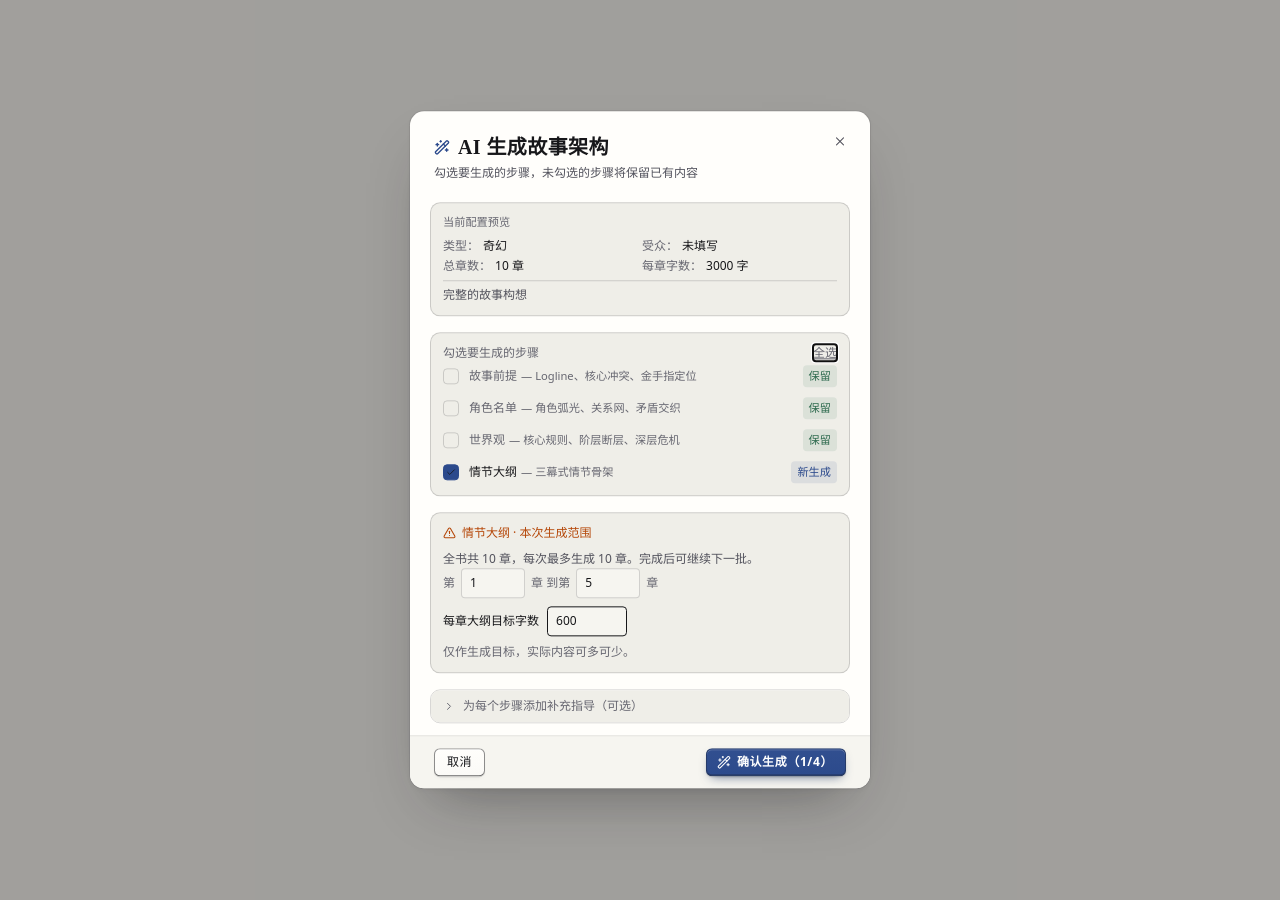
Scenario: workflow launch dialogs › rejects invalid synopsis range value  without falling back to the whole book
Step 1. Clear the number field named "本次生成范围的起始章" → (493, 584), box 461,569 -> 525,599
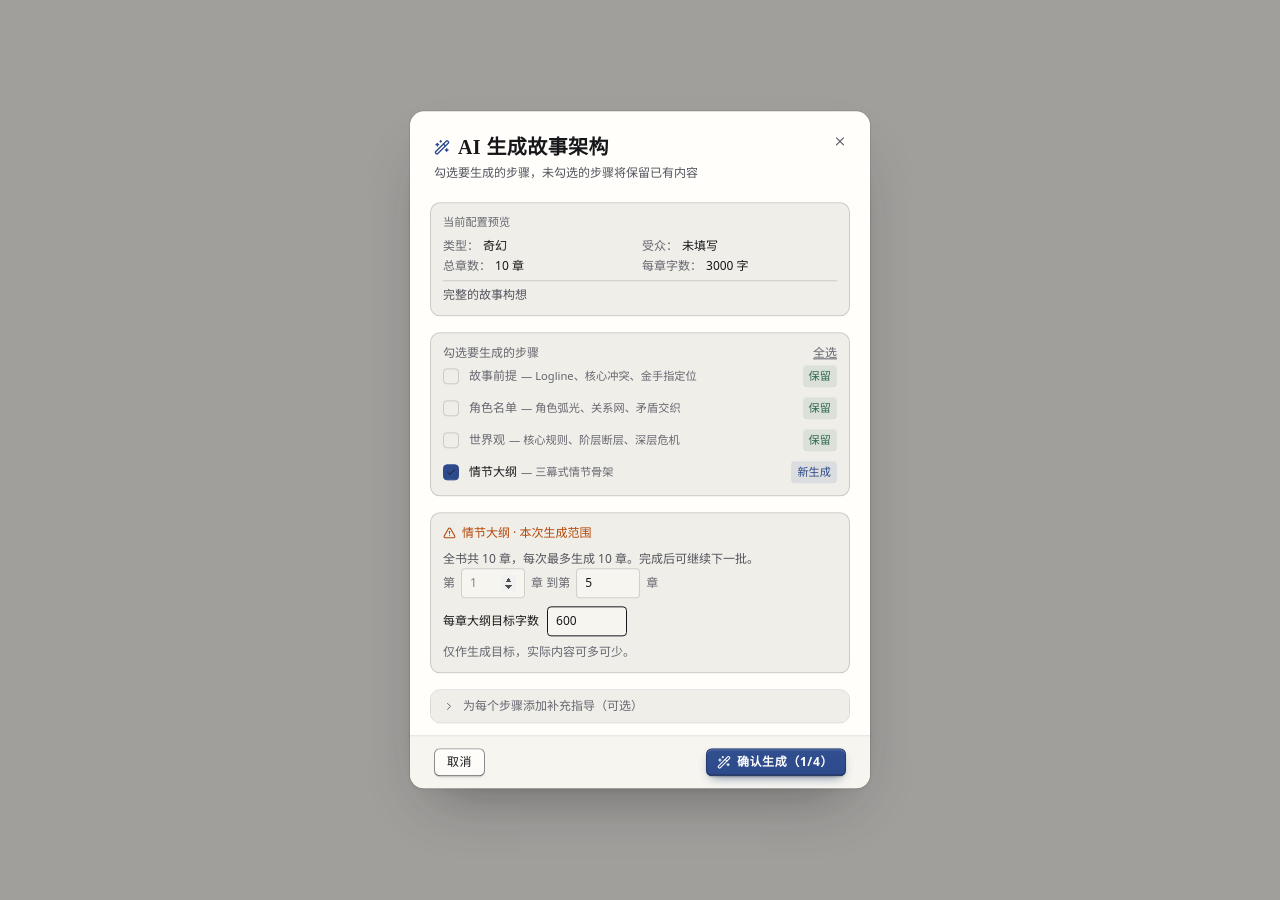
Step 2. Click the button "确认生成（1/4）" → (776, 763), box 706,749 -> 846,777
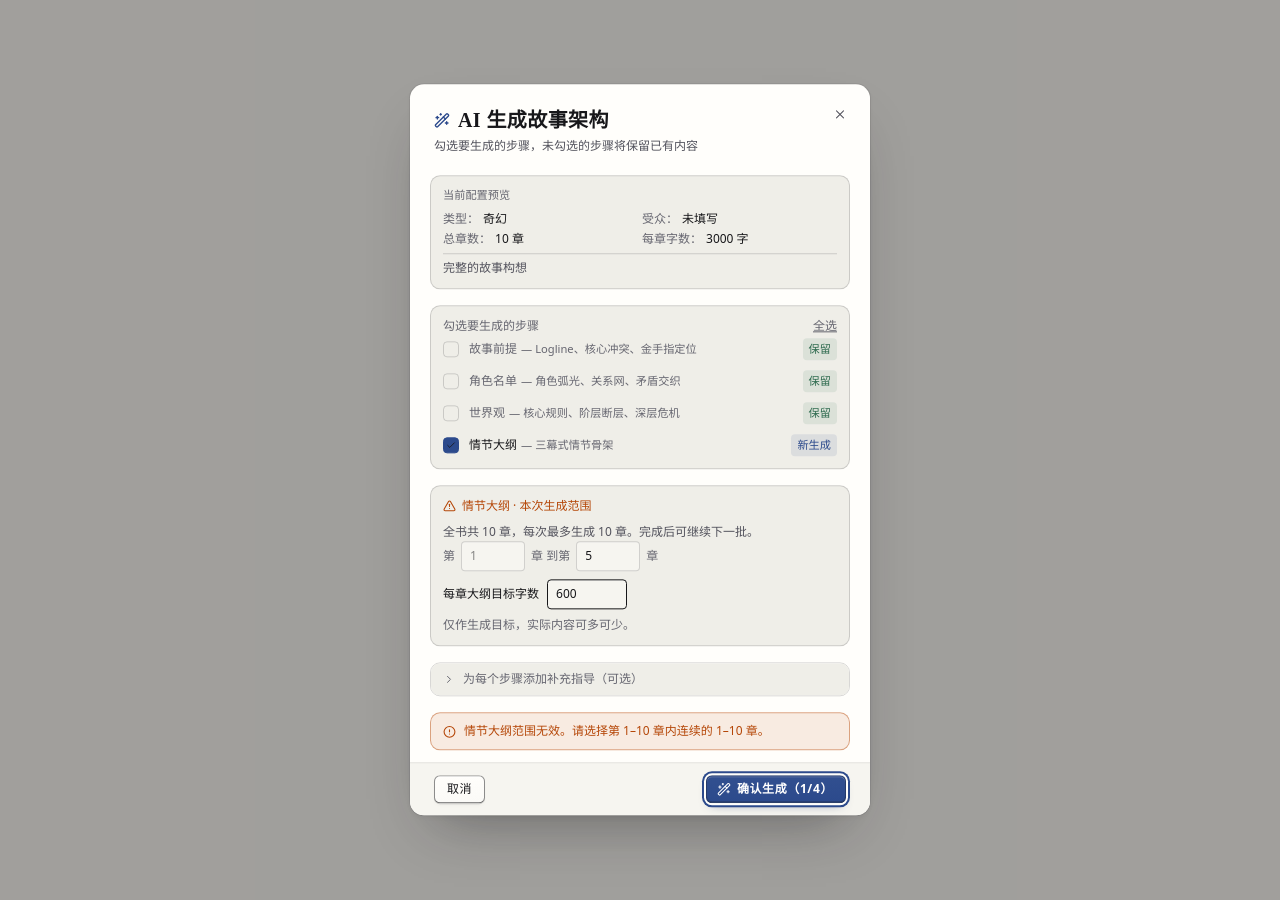
Now the text "情节大纲范围无效。请选择第 1–10 章内连续的 1–10 章。" is shown, box 464,724 -> 770,740
